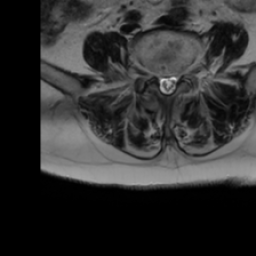CCS_normal: (164, 66, 170, 103)
LFS_stenosis: (178, 61, 188, 86)
LLS_normal: (170, 66, 178, 95)
RFS_severe_stenosis: (148, 62, 156, 85)
RLS_normal: (156, 66, 164, 95)
